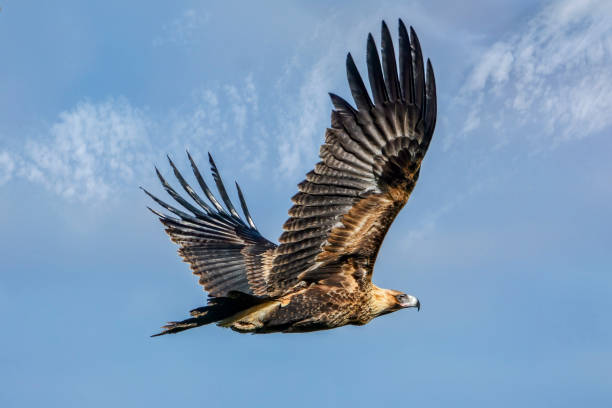Bird: (133, 10, 439, 343)
